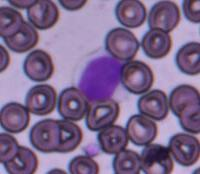L: (74, 50, 123, 102)
